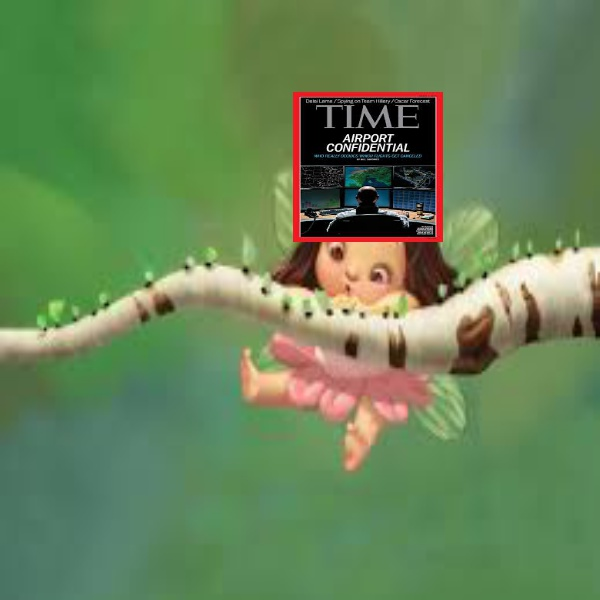time_cover: (288, 79, 442, 245)
